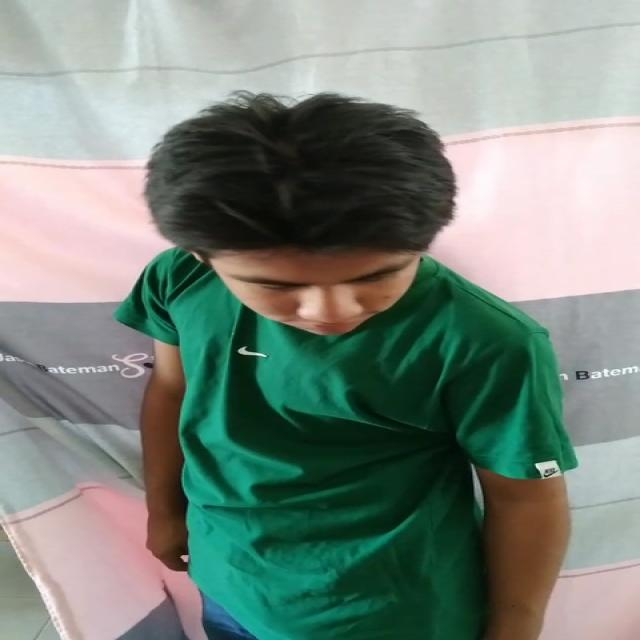9_cabeza_baja: (144, 89, 456, 335)
